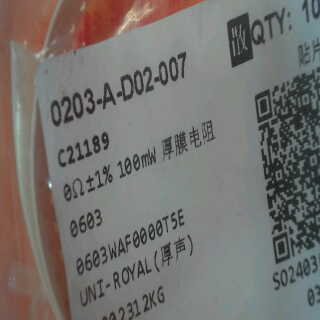0R: (63, 161, 116, 239)
